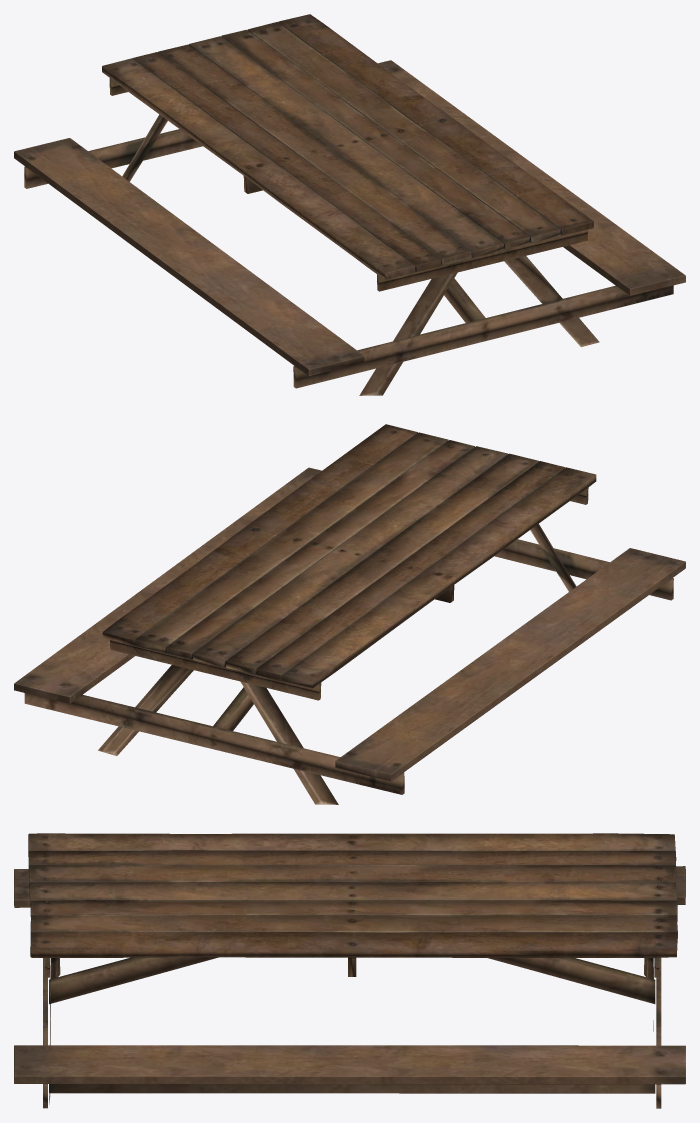
The model's file is wooden_picnic_table.glb.
3 views of the same model, one above another, from view 1: azimuth 30°, elevation 25°; view 2: azimuth 150°, elevation 25°; view 3: azimuth 270°, elevation 25° (orthographic). The views are drawn at different scales.
Visible parts, largest first — view 1: wooden_picnic_table; view 2: wooden_picnic_table; view 3: wooden_picnic_table.
Part boxes in pixels (<box>): wooden_picnic_table: <box>14,14,685,395</box>; wooden_picnic_table: <box>14,424,685,804</box>; wooden_picnic_table: <box>14,833,685,1108</box>.
Size of the model in its own units: 2.24 by 0.7446 by 3.02.
2 materials, 2 textured.
